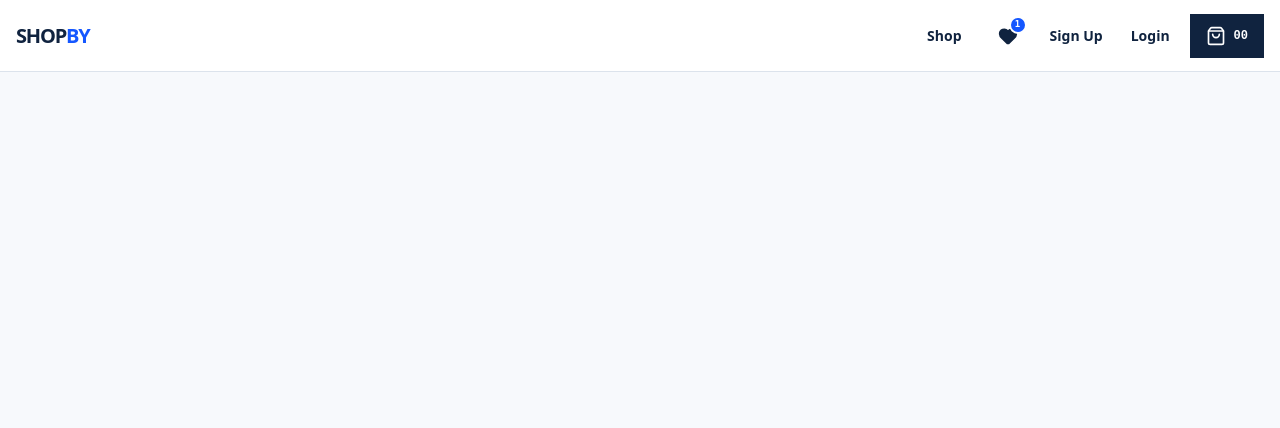
Scenario: Navbar authentication controls › opens a favorites window and removes a saved product
This screenshot has width=1280, height=428.
Click the button named "Favorites, 1 items" at (1008, 36), box [986,14,1030,58]
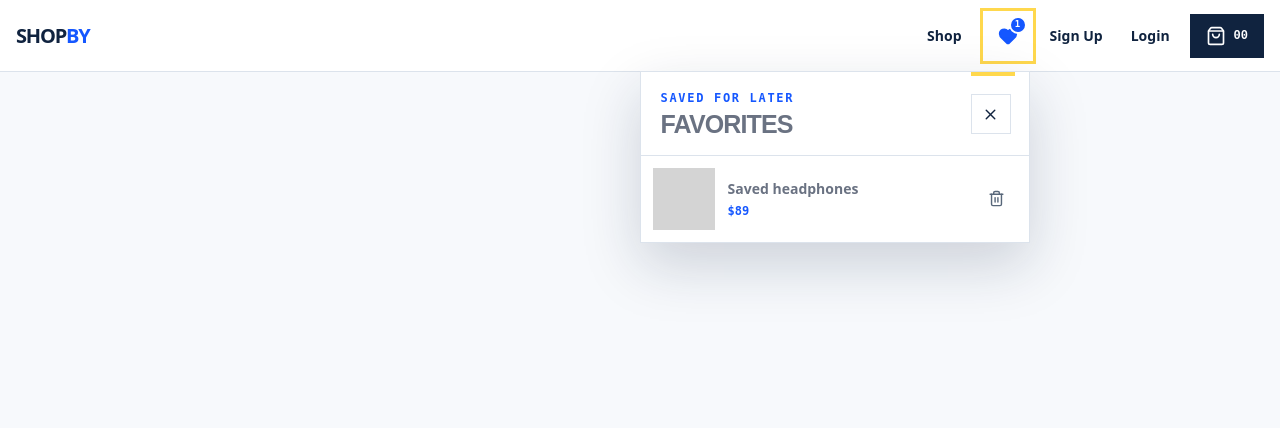
Expected: the heading "Favorites" is shown, [660,112,794,136]
Expected: the link "Saved headphones $89" is shown, [652,168,858,230]
Click the button named "Remove Saved headphones from favorites" at (996, 198), box [976,178,1016,218]
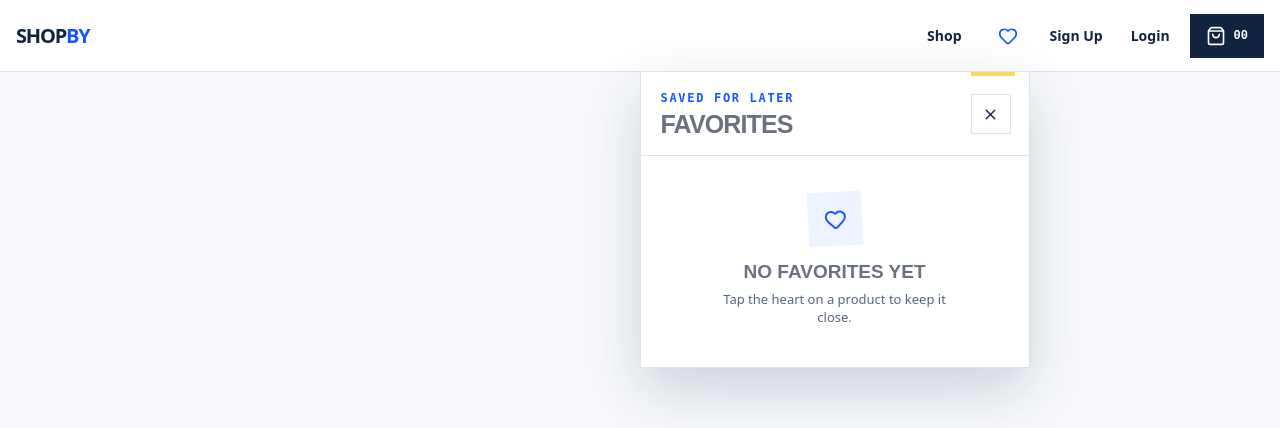
Expected: the text "No favorites yet" is shown, [744,260,926,282]
